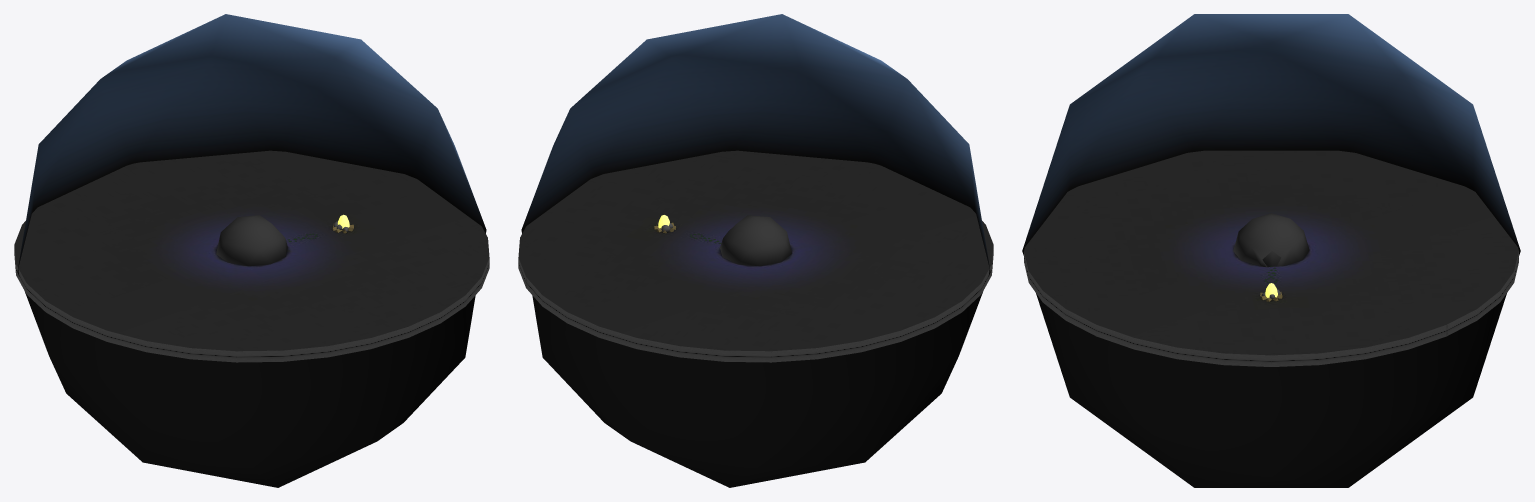
3 views of the same model, side by side, from view 1: azimuth 30°, elevation 25°; view 2: azimuth 150°, elevation 25°; view 3: azimuth 270°, elevation 25° (orthographic). The views are drawn at different scales.
Visible parts, largest first — view 1: envirosphere.010, ground.012, lodge.010; view 2: envirosphere.010, ground.012, lodge.010; view 3: envirosphere.010, ground.012, lodge.010.
Part boxes in pixels (x1,y1,x2,y2): envirosphere.010: [17, 14, 486, 487]; ground.012: [14, 150, 489, 362]; lodge.010: [216, 215, 287, 266]; envirosphere.010: [521, 14, 990, 487]; ground.012: [518, 150, 993, 362]; lodge.010: [720, 215, 791, 266]; envirosphere.010: [1022, 14, 1520, 487]; ground.012: [1024, 150, 1518, 366]; lodge.010: [1233, 213, 1309, 267].
Bounding box in the file's own units: 13.58 × 13.69 × 13.69.
Materials: 8 (2 with a texture image).
